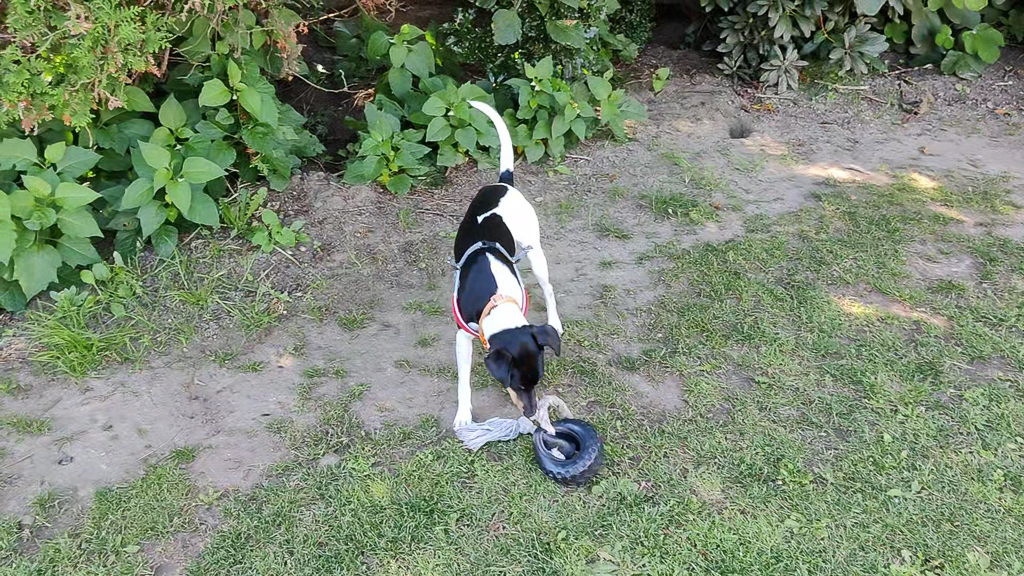Dog: (420, 89, 584, 447)
